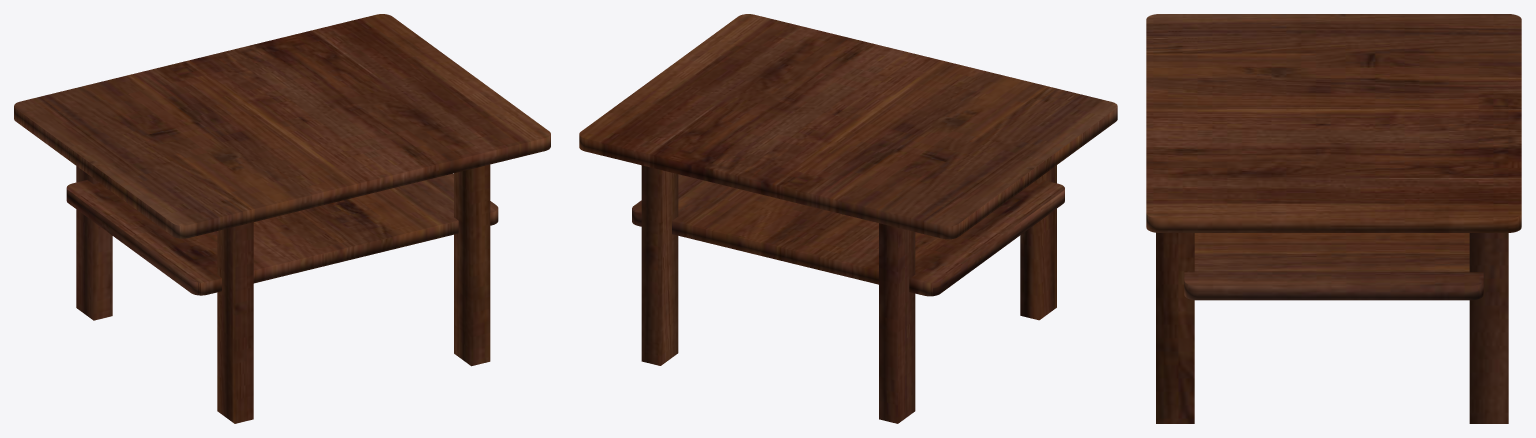
The model's file is coffee_table_wood.fbx.
The picture shows the model from 3 angles, left to right: view 1: azimuth 30°, elevation 25°; view 2: azimuth 150°, elevation 25°; view 3: azimuth 270°, elevation 25°; orthographic projection. The views are drawn at different scales.
Parts seen in each view (by area): view 1: coffee_table; view 2: coffee_table; view 3: coffee_table.
Part boxes in pixels (bbox=[...]): coffee_table: bbox=[14, 14, 550, 423]; coffee_table: bbox=[579, 14, 1117, 423]; coffee_table: bbox=[1146, 14, 1521, 423].
Size of the model in its own units: 205 by 111 by 159.
